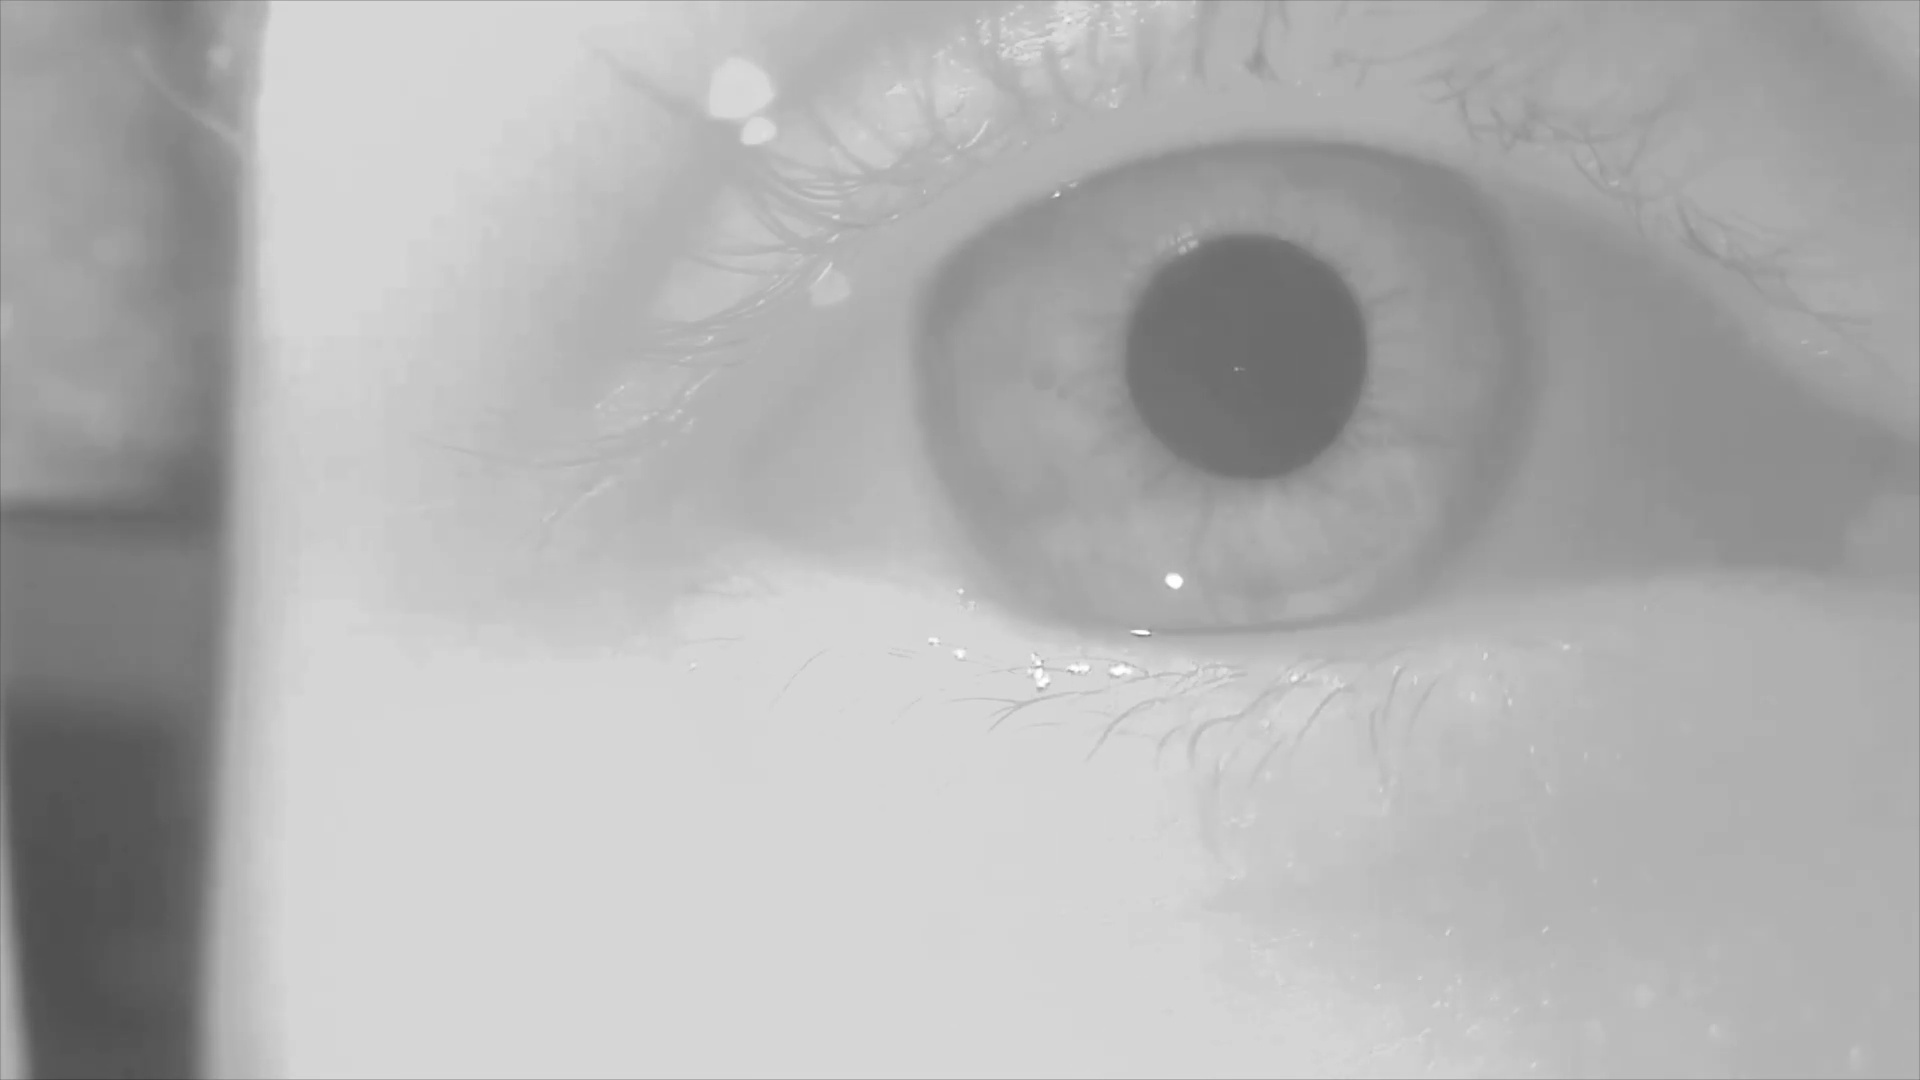pupil: (1126, 233, 1371, 476)
